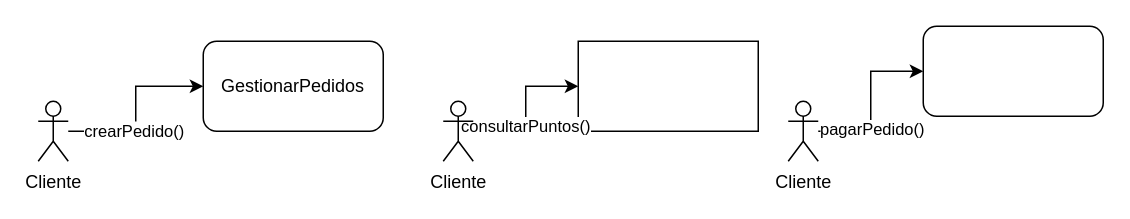
Some shapes in this 1130 by 219 pixel diagram are drawn without their labels. The shapes that lost their labels are listed below. From the top down, each one's box as (x1, y1, x2, y2) in pixels, then its label:
(577, 40, 758, 131): AdministrarLealtad
(922, 25, 1103, 116): ProcesarPagos
